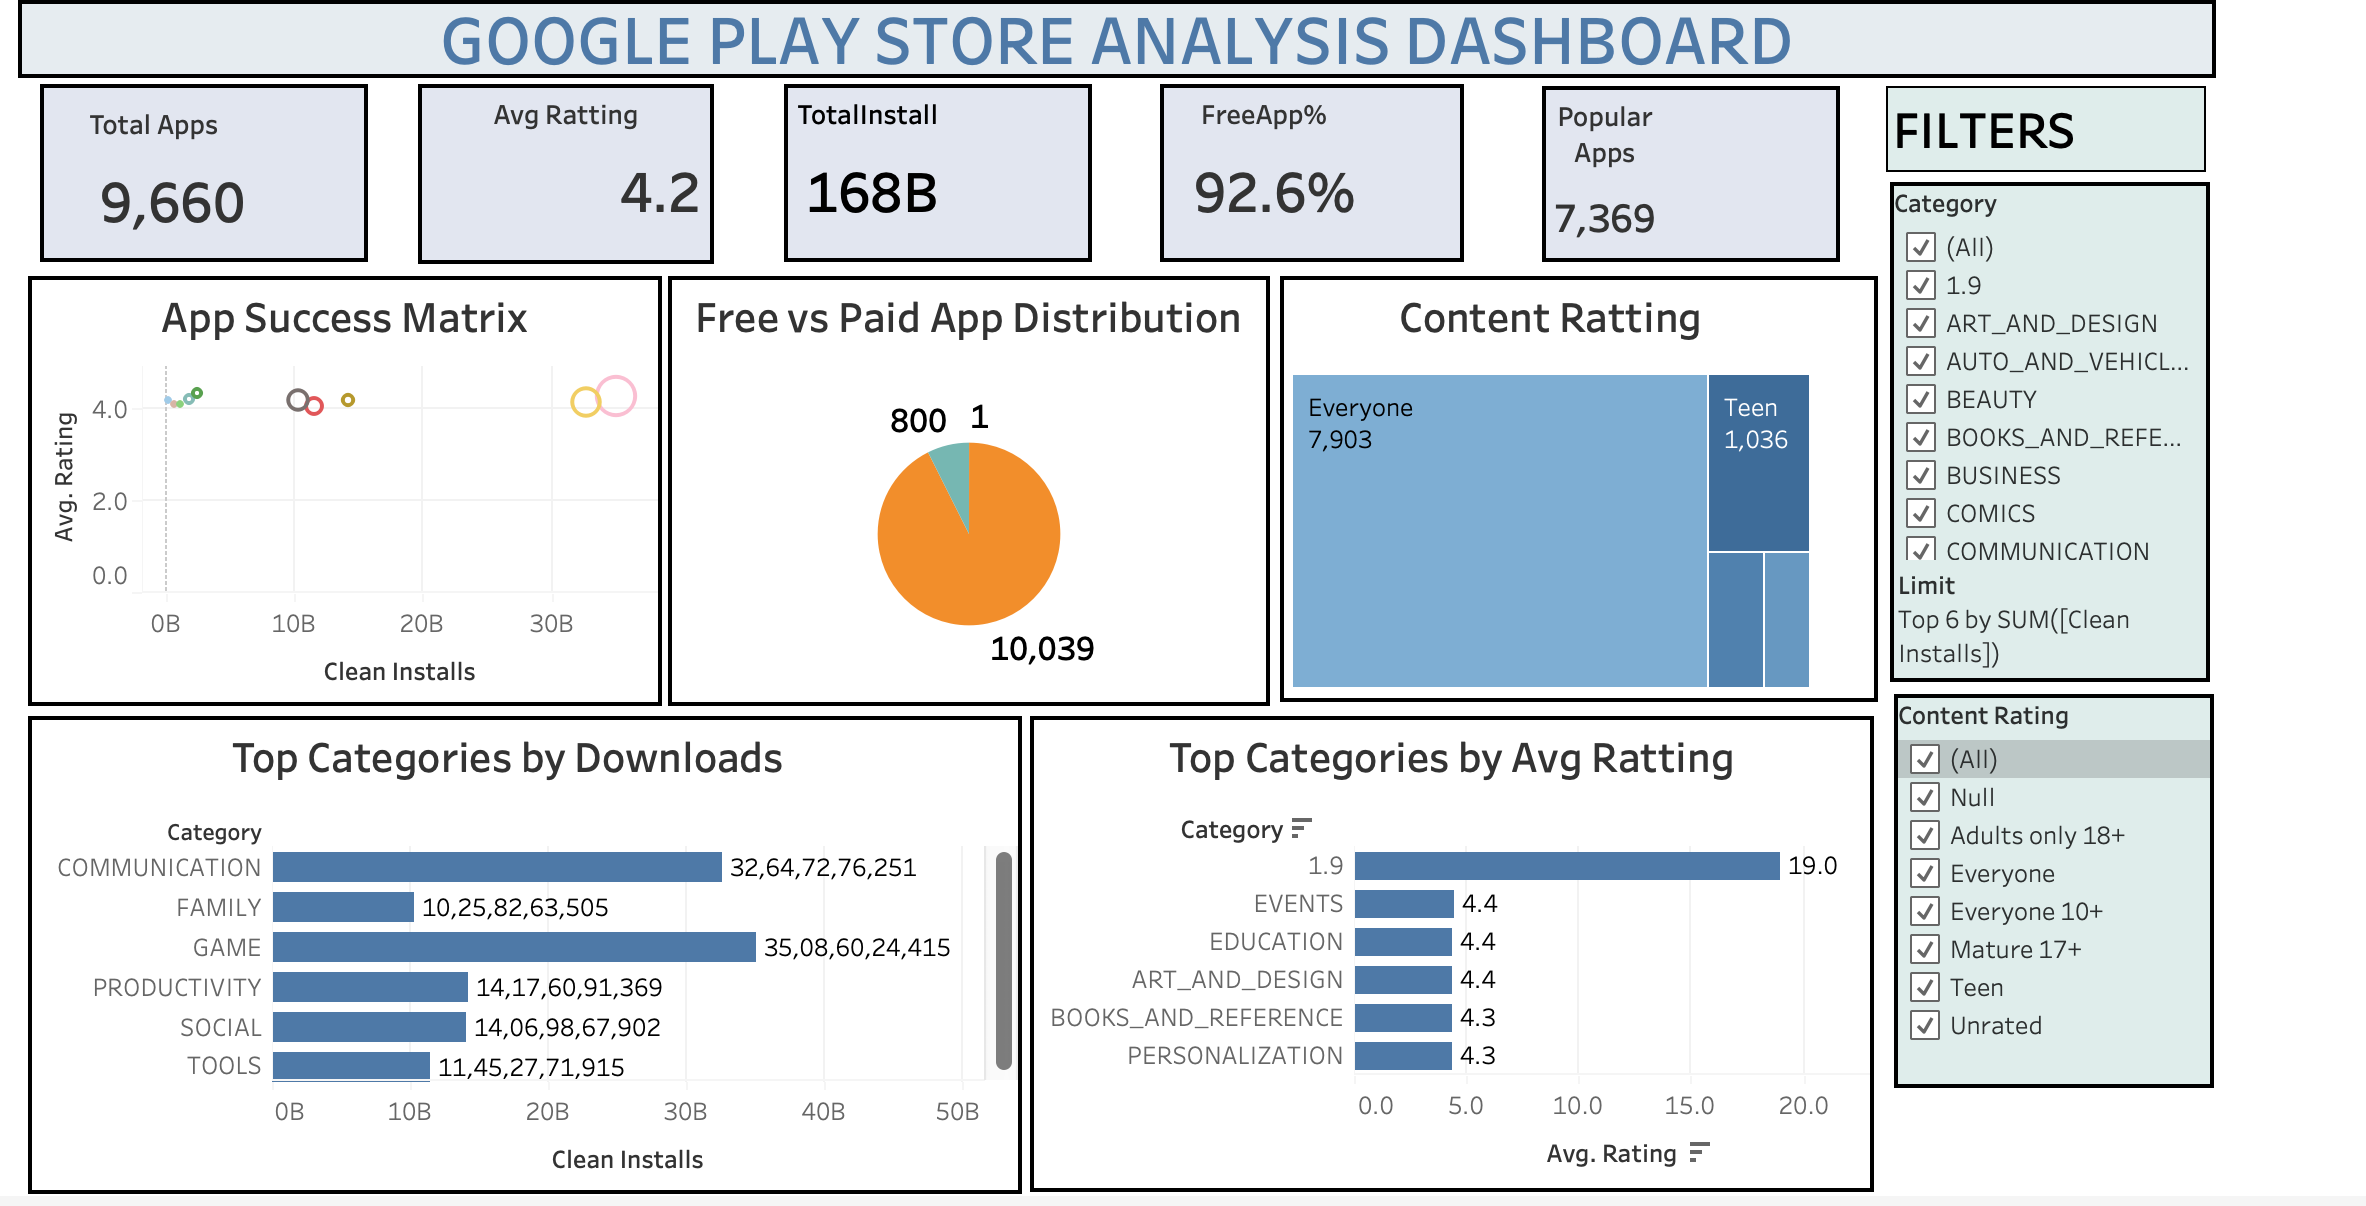

Layout of this report page (visuals, bound fields, positions):
{"tool":"tableau","page":{"name":"Dashboard 1","canvas":[1400,600],"ordinal":0},"visuals":[{"type":"text","box":[16,2,1099,39]},{"type":"worksheet","title":"TotalApps","mark":"Automatic","box":[27,44,164,89]},{"type":"worksheet","title":"Avg.Ratting","mark":"Automatic","box":[216,44,148,90]},{"type":"worksheet","title":"TotalInstall","mark":"Automatic","box":[399,44,154,89]},{"type":"worksheet","title":"FreeApp%","mark":"Automatic","box":[587,44,152,89]},{"type":"worksheet","title":"HighRatedApps","mark":"Automatic","box":[778,45,149,88]},{"type":"text","box":[950,45,160,43]},{"type":"filter","title":"Top Categories by Downloads","param":"[federated.1s4ivhq0x2p3g614t1weg0joaia5].[none:Category:nk]","box":[952,93,160,250]},{"type":"worksheet","title":"App Success Matrix","mark":"Shape","rows":["Rating"],"cols":["Calculation_1057257520209920"],"box":[21,140,317,215]},{"type":"worksheet","title":"FreeVSPaid","mark":"Pie","box":[341,140,301,215]},{"type":"worksheet","title":"Content Ratting","mark":"Automatic","box":[647,140,299,213]},{"type":"filter","title":"Content Ratting","param":"[federated.1s4ivhq0x2p3g614t1weg0joaia5].[none:Content Rating:nk]","box":[954,349,160,197]},{"type":"worksheet","title":"Top Categories by Downloads","mark":"Automatic","rows":["Category"],"cols":["Calculation_1057257520209920"],"box":[21,360,497,239]},{"type":"worksheet","title":"Top Categories by Avg Ratting","mark":"Bar","rows":["Category"],"cols":["Rating"],"box":[522,360,422,238]}]}

Visuals, with their boxes on the page's 1400x600 design canvas (x1, y1, x2, y2). These are canvas units, not pixel positions in the 2366x1206 screenshot, which may show the page scaled, cropped or inside an application window:
text: l=16, t=2, r=1115, b=41
"TotalApps" worksheet: l=27, t=44, r=191, b=133
"Avg.Ratting" worksheet: l=216, t=44, r=364, b=134
"TotalInstall" worksheet: l=399, t=44, r=553, b=133
"FreeApp%" worksheet: l=587, t=44, r=739, b=133
"HighRatedApps" worksheet: l=778, t=45, r=927, b=133
text: l=950, t=45, r=1110, b=88
"Top Categories by Downloads" filter: l=952, t=93, r=1112, b=343
"App Success Matrix" worksheet (Shape marks): l=21, t=140, r=338, b=355
"FreeVSPaid" worksheet (Pie marks): l=341, t=140, r=642, b=355
"Content Ratting" worksheet: l=647, t=140, r=946, b=353
"Content Ratting" filter: l=954, t=349, r=1114, b=546
"Top Categories by Downloads" worksheet: l=21, t=360, r=518, b=599
"Top Categories by Avg Ratting" worksheet (Bar marks): l=522, t=360, r=944, b=598
